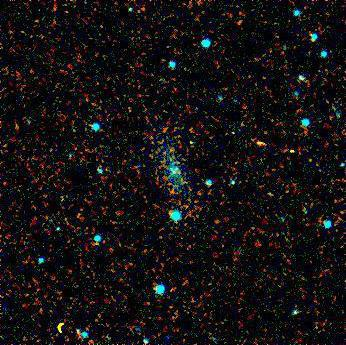star: (244, 130, 274, 160)
